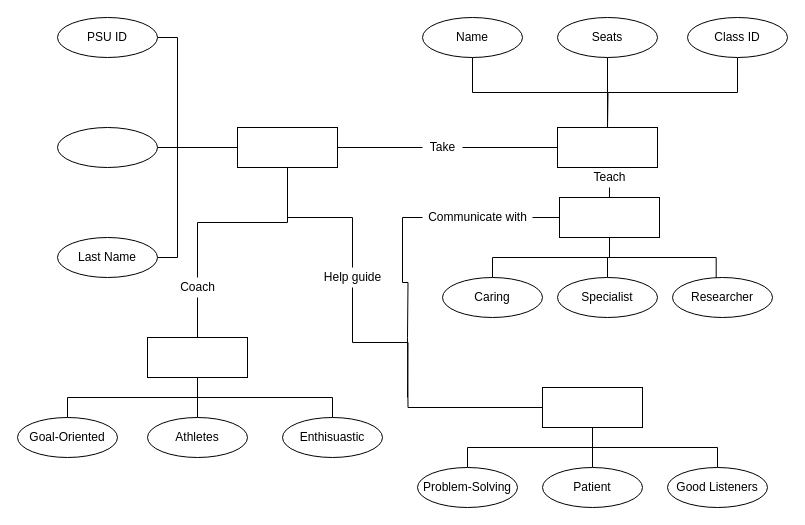
Some shapes in this 805 by 525 pixel diagram are drawn without their labels. Here are the shapes that lost their labels. From the top down, the centre of each, then its label:
At point (107, 147): "First Name".
At point (287, 147): "Students".
At point (607, 147): "Classes".
At point (609, 217): "Professors".
At point (197, 357): "Coaches".
At point (592, 407): "Counselors".
